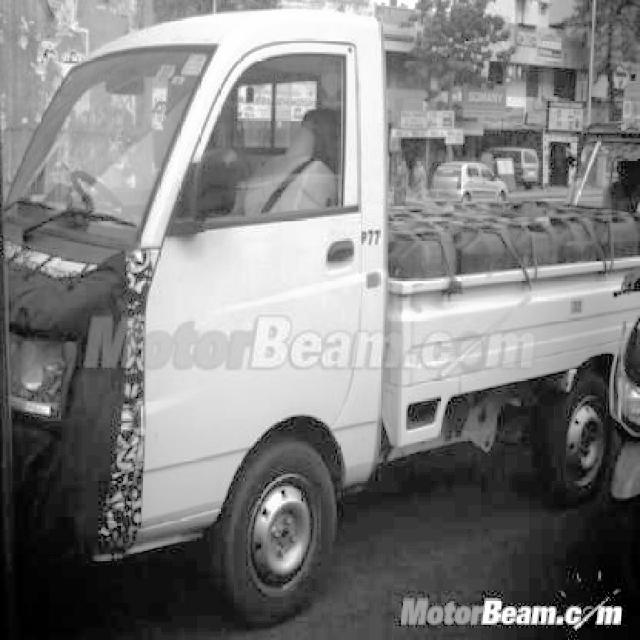LCV: (42, 49, 633, 538)
